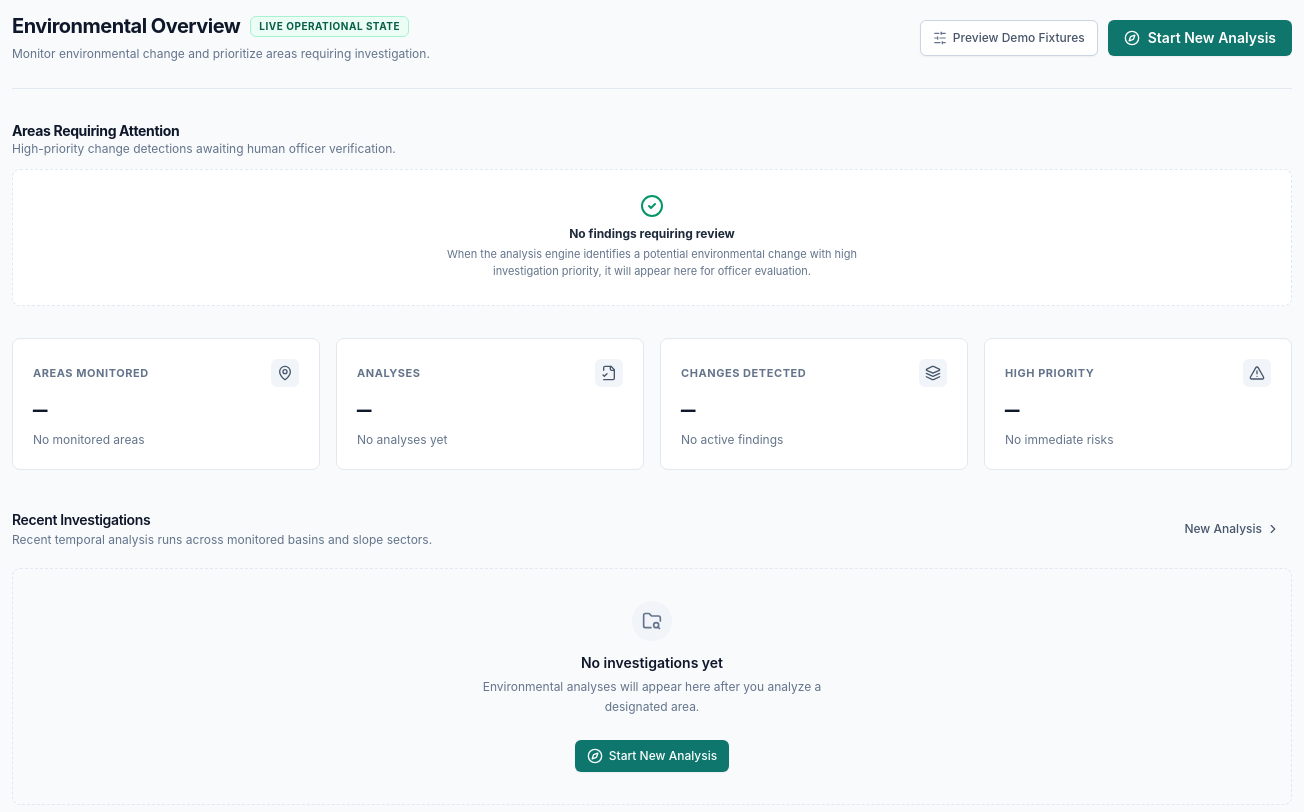
OverviewPage (Environmental Overview Dashboard) › supports previewing demonstration fixtures with an explicit disclaimer notice
The width and height of the screenshot is (1304, 812).
Click the button "Preview Demo Fixtures": (1009, 38) [920,20,1098,56]
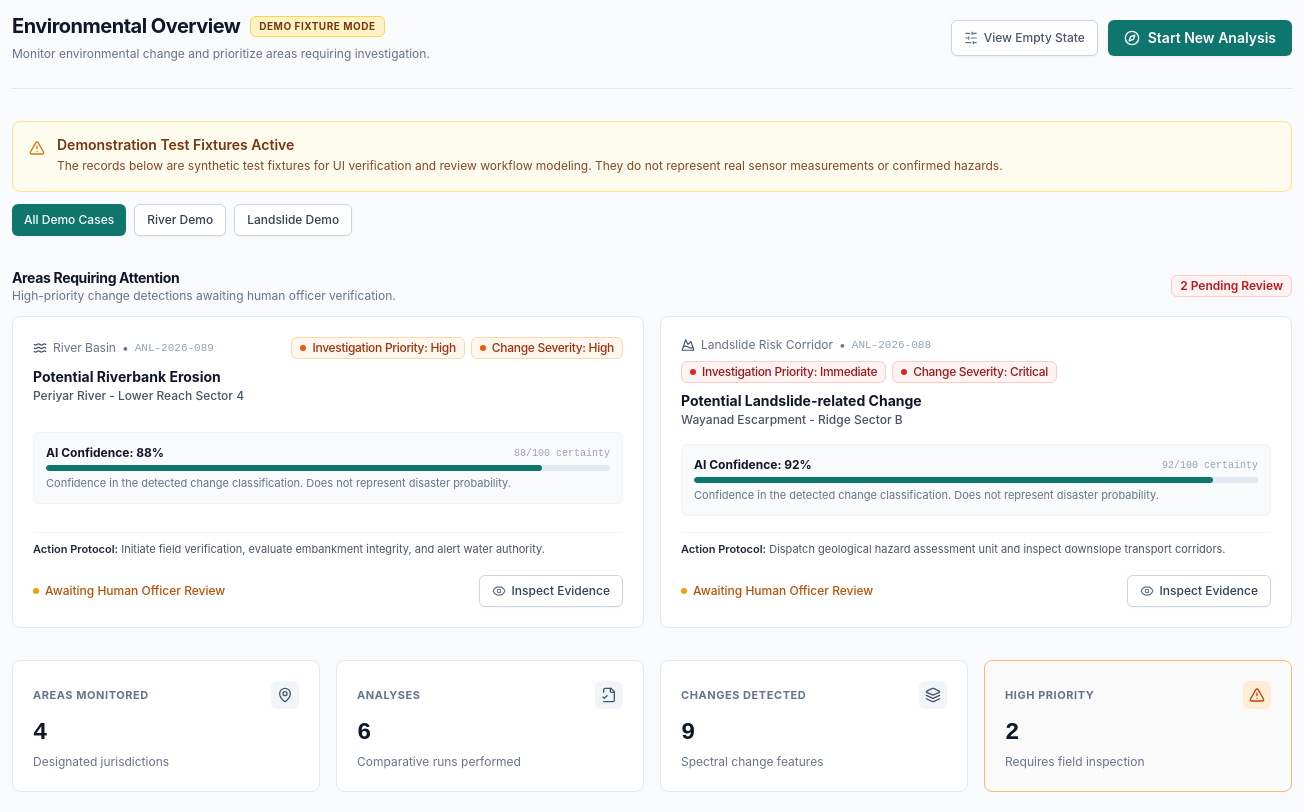
Check: the heading "Demonstration Test Fixtures Active" is shown, box [57,136,294,152]
Check: the heading "Potential Riverbank Erosion" is shown, box [33,368,221,385]
Note: Toggle back to empty state
Click the button "View Empty State": (1024, 38) [951,20,1098,56]
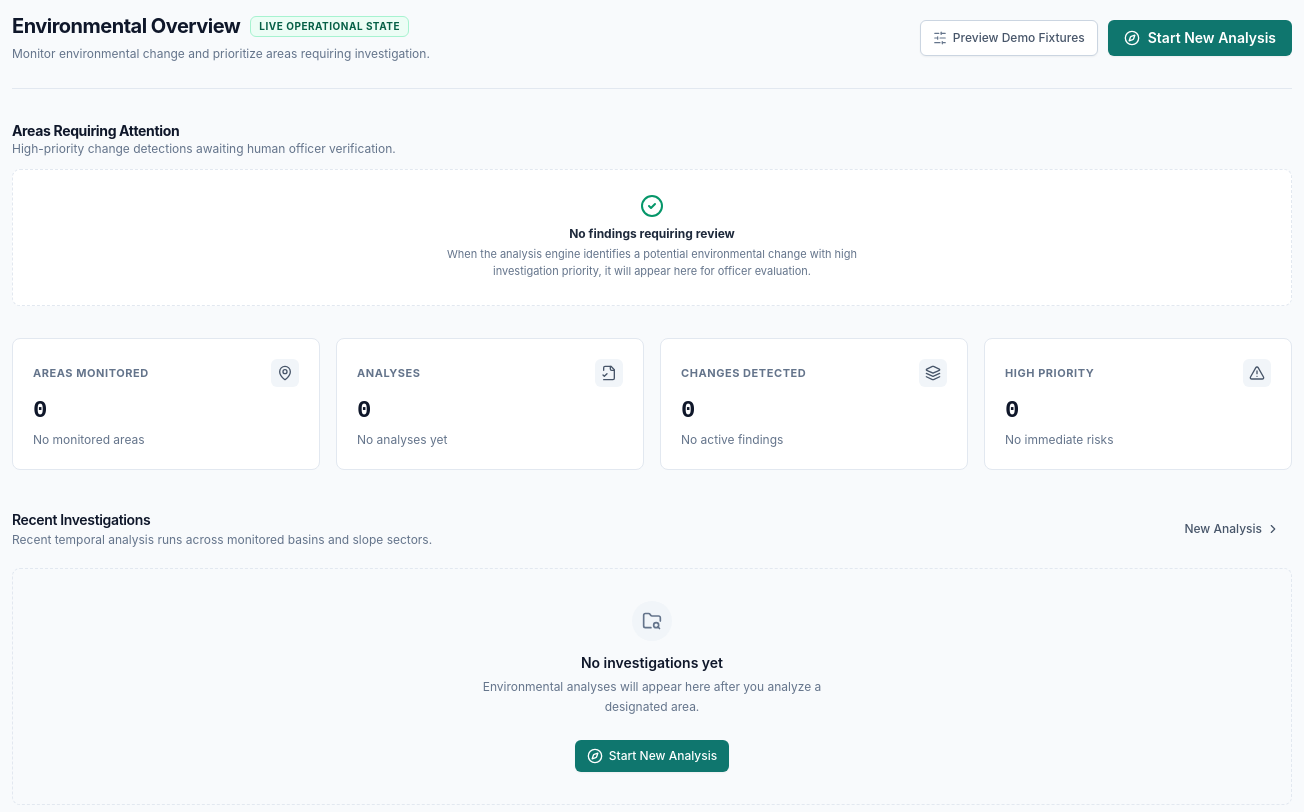
Check: the heading "Demonstration Test Fixtures Active" is gone
Check: the heading "No findings requiring review" is shown, box [569,226,735,240]
